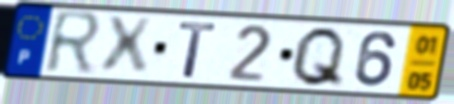2: (225, 23, 275, 84)
6: (354, 29, 399, 90)
Q: (287, 24, 349, 90)
R: (41, 8, 106, 78)
T: (176, 20, 221, 80)
X: (98, 15, 156, 78)
